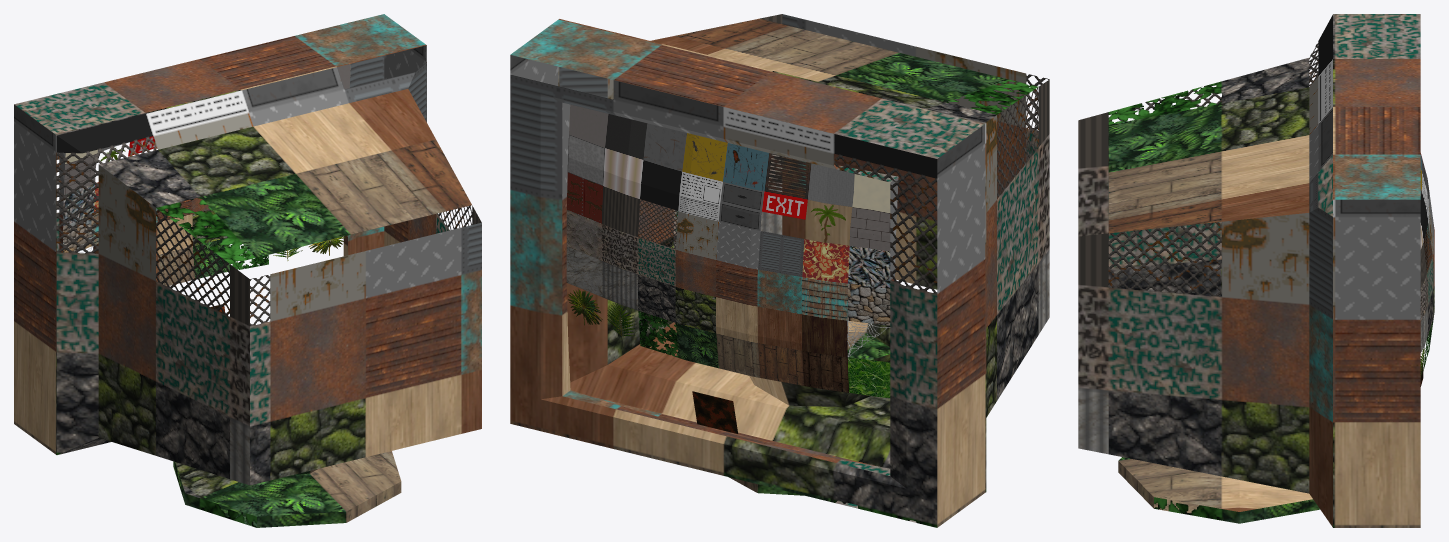
File: OfficeMonitor.fbx
3 renders of one model, left to right at view 1: azimuth 30°, elevation 25°; view 2: azimuth 150°, elevation 25°; view 3: azimuth 270°, elevation 25°, orthographic. The views are drawn at different scales.
Parts seen in each view (by area): view 1: MonitorBox, MonitorScreenOn; view 2: MonitorBox, MonitorScreenOn; view 3: MonitorBox, MonitorScreenOn.
Boxes of the visible parts, box(x1,y1,x2,y2) form: MonitorBox: box(14, 14, 481, 527); MonitorScreenOn: box(63, 64, 350, 313); MonitorBox: box(510, 14, 1049, 527); MonitorScreenOn: box(566, 104, 890, 433); MonitorBox: box(1078, 14, 1420, 527); MonitorScreenOn: box(1420, 153, 1434, 386).
Size of the model in its own units: 0.4845 by 0.4454 by 0.3933.
